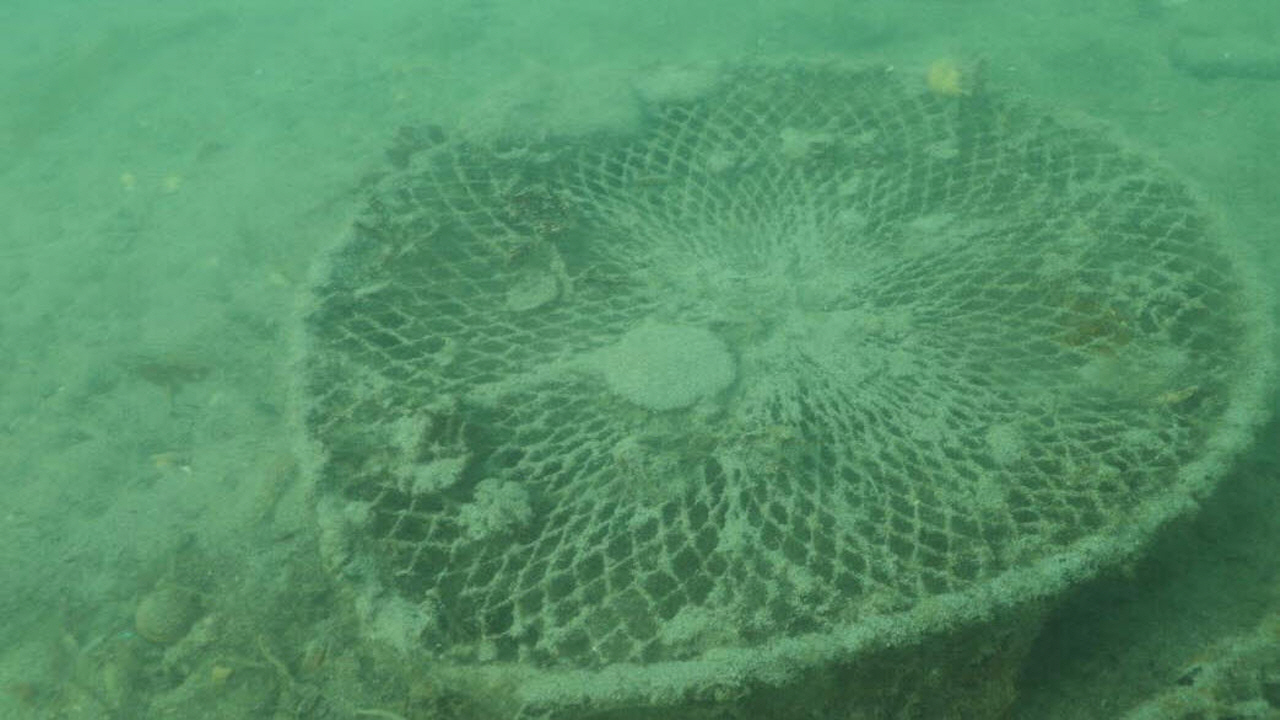circular fish trap: (280, 53, 1278, 707)
